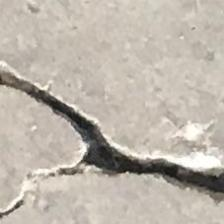Crack: (0, 57, 224, 224)
